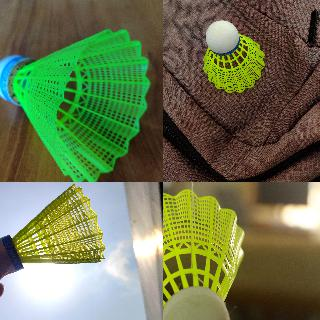shuttlecock: (0, 28, 152, 181), (163, 189, 244, 319), (0, 183, 105, 274), (202, 20, 264, 92)
